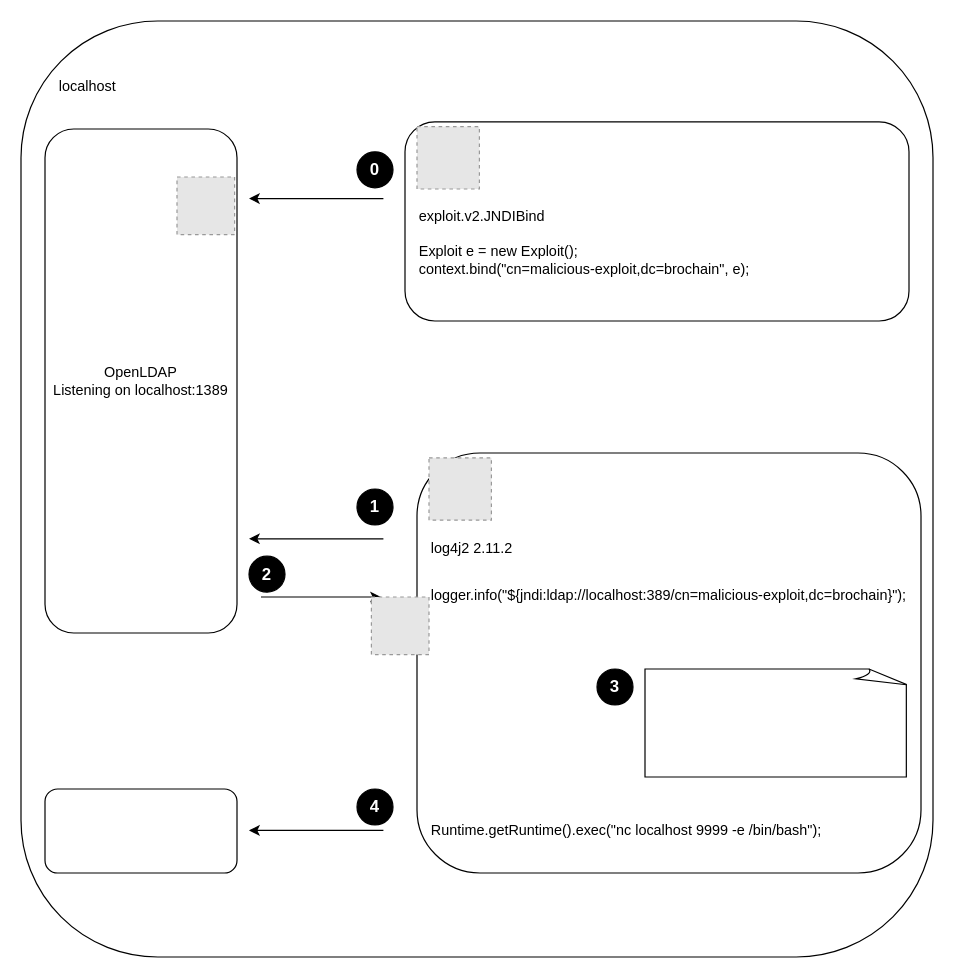
Some shapes in this 954 by 978 pixel diagram are drawn without their labels. Grey dashed boxes stand in for pictures. The centre of each missing label's shape, as x and y in pixels:
"logs INFO exploit.v2.Log4j2Lookup - exploit.v2.Exploit@4b8ee4de" goes at [776,722].
"nc -lp 9999" goes at [140,830].
